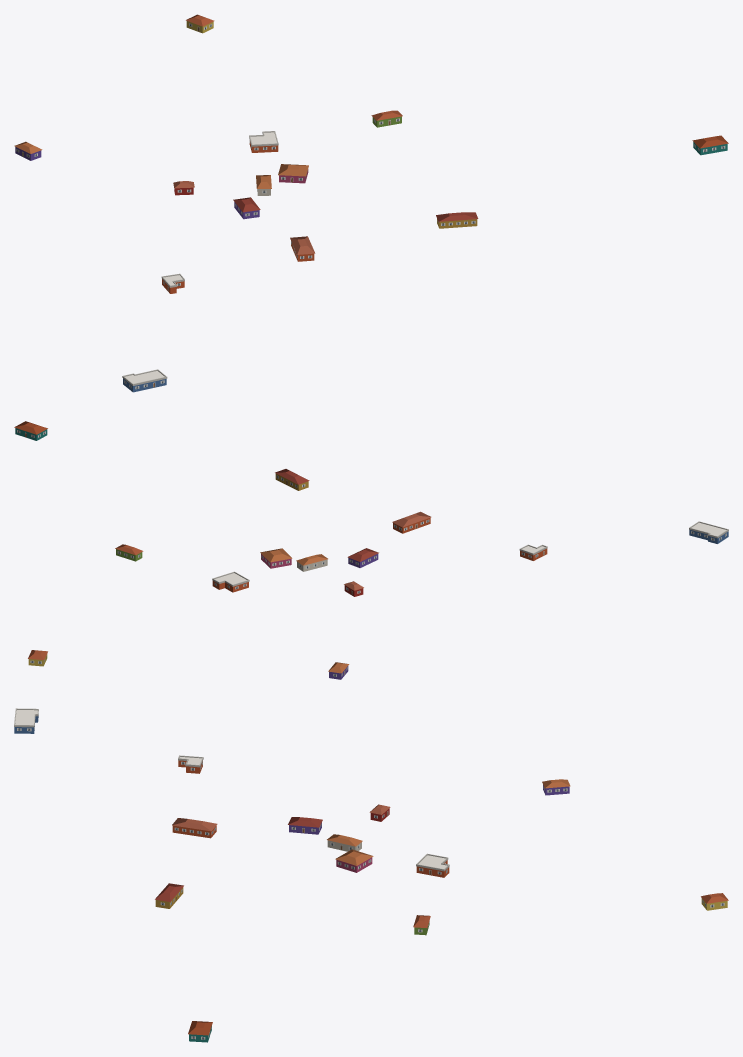
File: msb_oranjestad_m18_m4.glb
3 renders of one model, top to bottom at view 1: azimuth 30°, elevation 25°; view 2: azimuth 150°, elevation 25°; view 3: azimuth 270°, elevation 25°, orthographic. The views are drawn at different scales.
Visible parts, largest first — view 1: msb_oranjestad_m18_m4_lod0; view 2: msb_oranjestad_m18_m4_lod0; view 3: msb_oranjestad_m18_m4_lod0.
Boxes of the visible parts, box(x1,y1,x2,y2) form: msb_oranjestad_m18_m4_lod0: box(14, 14, 728, 392); msb_oranjestad_m18_m4_lod0: box(14, 421, 728, 679); msb_oranjestad_m18_m4_lod0: box(14, 708, 728, 1042).
Size of what is drawn, in the model's own units: 340 by 12.38 by 302.
3 materials, 1 textured.
